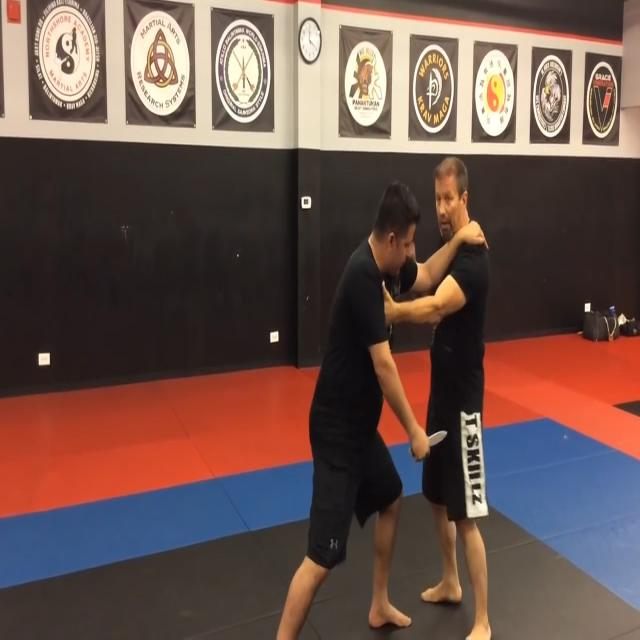knife: (426, 429, 452, 456)
